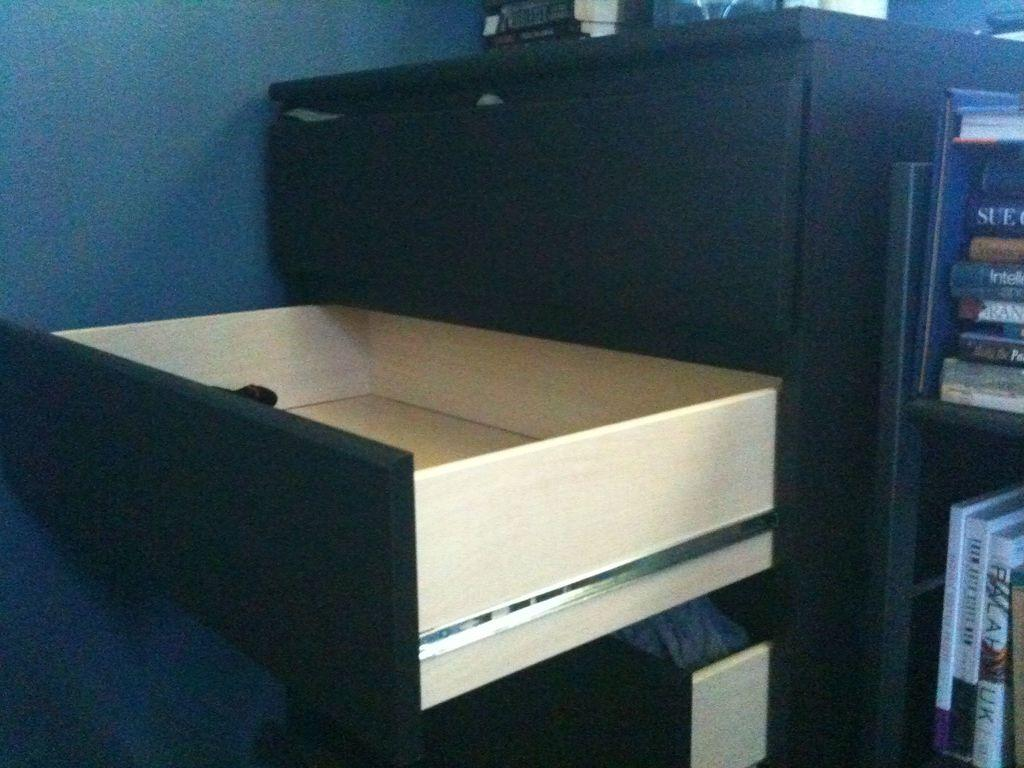cabinet_door: (286, 120, 794, 326), (15, 355, 407, 575), (520, 673, 698, 768)
handle: (258, 69, 820, 114)
